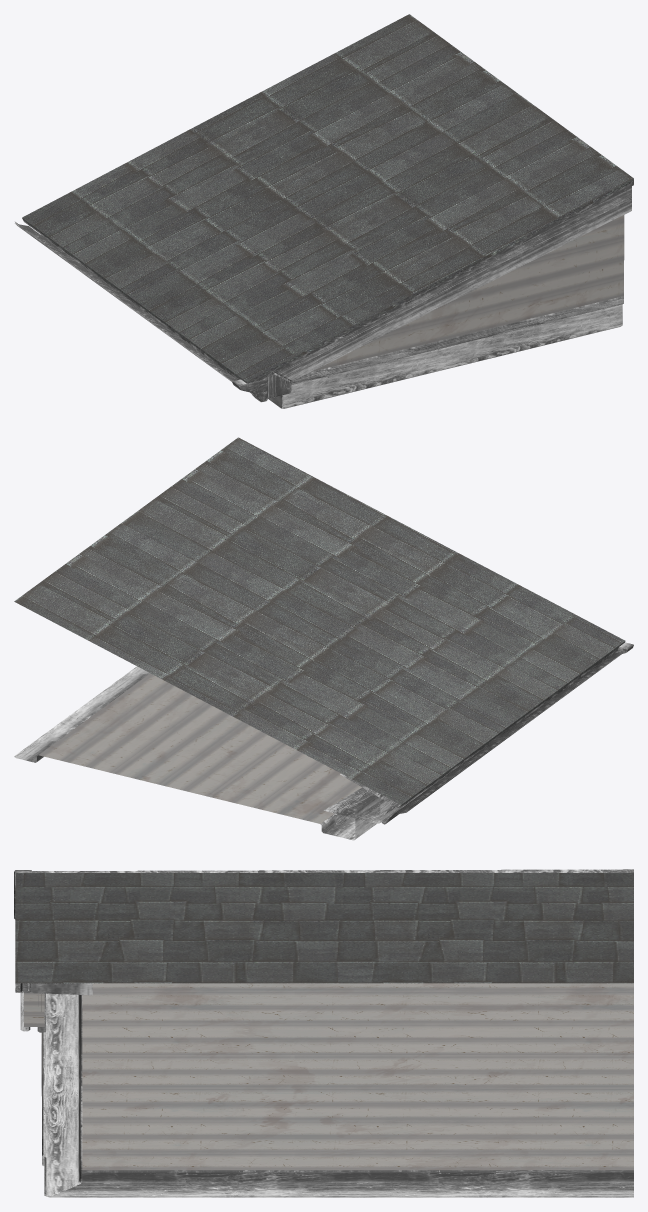
Rendered from SM_Porch_Roof_C1.fbx.
The picture shows the model from 3 angles, top to bottom: view 1: azimuth 30°, elevation 25°; view 2: azimuth 150°, elevation 25°; view 3: azimuth 270°, elevation 25°; orthographic projection. The views are drawn at different scales.
Visible parts, largest first — view 1: SM_Porch_Roof_C1; view 2: SM_Porch_Roof_C1; view 3: SM_Porch_Roof_C1.
Part boxes in pixels (left/top/right/bottom): SM_Porch_Roof_C1: left=15, top=14, right=633, bottom=408; SM_Porch_Roof_C1: left=14, top=437, right=633, bottom=840; SM_Porch_Roof_C1: left=14, top=869, right=633, bottom=1197.
Bounding box in the file's own units: 233 × 230 × 87.94.
3 materials, 3 textured.
